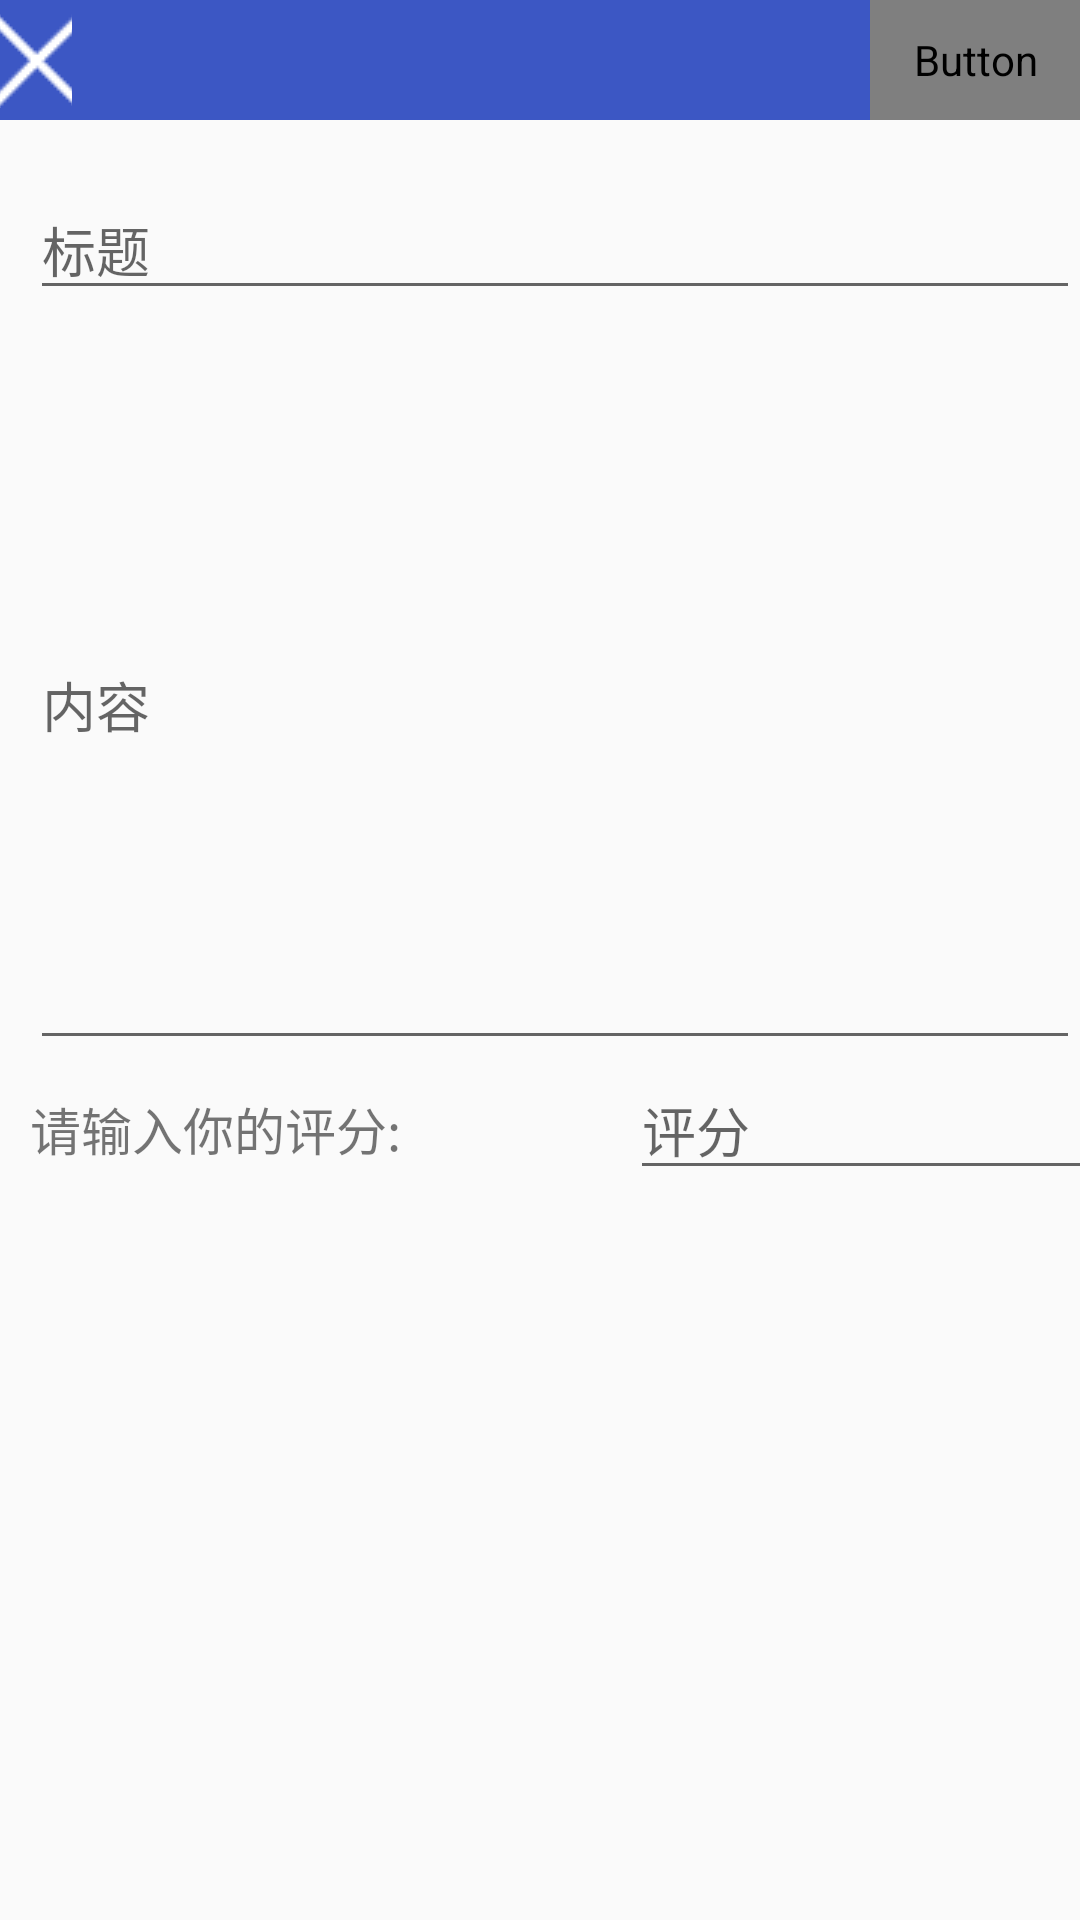

Icon click points for this 1080×1920 phone screenshot, format (x=x, y=y):
close: (x=36, y=61)
